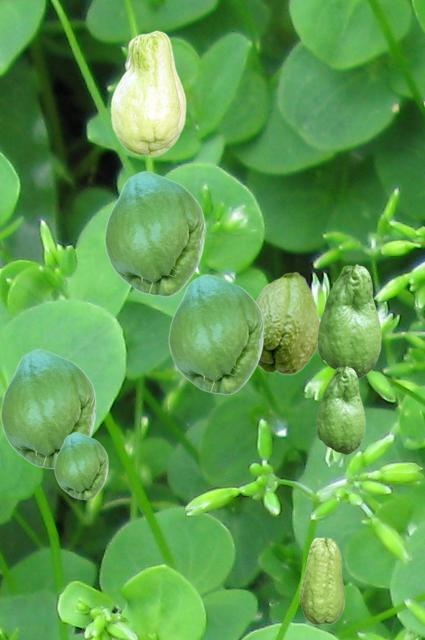sayote: (104, 171, 204, 296), (0, 349, 95, 469), (168, 274, 263, 394), (110, 30, 185, 156), (317, 264, 380, 377), (255, 271, 319, 374), (316, 366, 364, 453), (299, 537, 344, 624), (54, 432, 107, 499)
